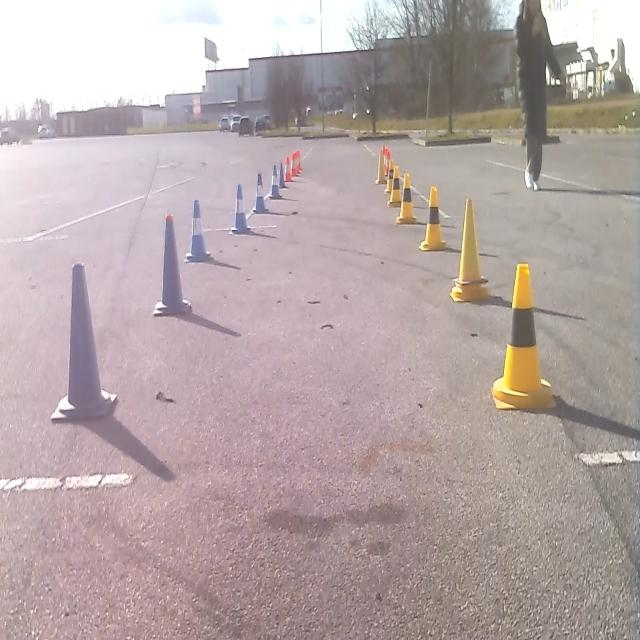blue_cone: (50, 259, 118, 423), (152, 212, 192, 317), (184, 197, 211, 263), (230, 182, 250, 234), (252, 174, 268, 213), (268, 166, 283, 200), (277, 163, 286, 188)
orange_cone: (381, 146, 392, 176), (290, 150, 302, 177), (283, 156, 294, 183)
yellow_cone: (491, 260, 556, 411), (449, 196, 490, 303), (418, 184, 446, 252), (396, 171, 416, 224), (386, 164, 402, 206), (375, 151, 386, 186)
